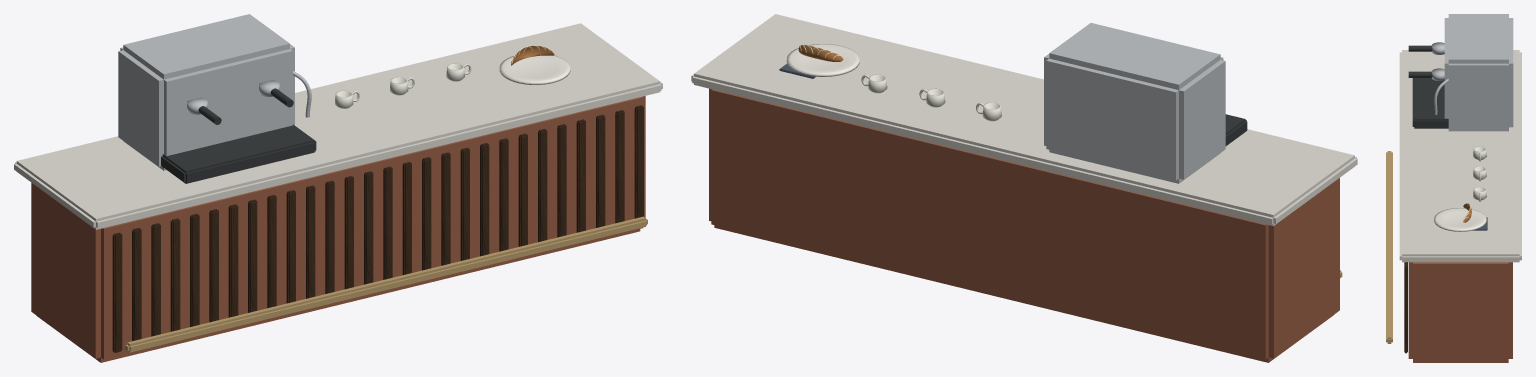
The model's file is coffee_bar.glb.
3 views of the same model, side by side, from view 1: azimuth 30°, elevation 25°; view 2: azimuth 150°, elevation 25°; view 3: azimuth 270°, elevation 25° (orthographic). The views are drawn at different scales.
Visible parts, largest first — view 1: coffee_bar_TERRUNE_terracotta, coffee_bar_Honed_solid_surface, coffee_bar_CC0_Smoked_walnut, coffee_bar_Brushed_stainless.003, coffee_bar_Satin_champagne, coffee_bar_Anodised_graphite.001, coffee_bar_V24_service_porcelain.004; view 2: coffee_bar_TERRUNE_terracotta, coffee_bar_Honed_solid_surface, coffee_bar_Brushed_stainless.003, coffee_bar_V24_service_porcelain.004; view 3: coffee_bar_Honed_solid_surface, coffee_bar_TERRUNE_terracotta, coffee_bar_Brushed_stainless.003, coffee_bar_Anodised_graphite.001, coffee_bar_Satin_champagne, coffee_bar_V24_service_porcelain.004, coffee_bar_CC0_Smoked_walnut, coffee_bar_Glazed_ceramic_0.007, coffee_bar_Glazed_ceramic_0.005, coffee_bar_Glazed_ceramic_0.006.
Part boxes in pixels (x1,y1,x2,y2): coffee_bar_TERRUNE_terracotta: (31, 96, 645, 362); coffee_bar_Honed_solid_surface: (14, 23, 662, 229); coffee_bar_CC0_Smoked_walnut: (112, 105, 643, 352); coffee_bar_Brushed_stainless.003: (118, 14, 311, 170); coffee_bar_Satin_champagne: (125, 216, 647, 352); coffee_bar_Anodised_graphite.001: (161, 88, 316, 183); coffee_bar_V24_service_porcelain.004: (499, 55, 570, 84); coffee_bar_TERRUNE_terracotta: (709, 88, 1339, 362); coffee_bar_Honed_solid_surface: (691, 14, 1357, 226); coffee_bar_Brushed_stainless.003: (1044, 23, 1225, 183); coffee_bar_V24_service_porcelain.004: (786, 44, 859, 76); coffee_bar_Honed_solid_surface: (1399, 50, 1521, 262); coffee_bar_TERRUNE_terracotta: (1408, 262, 1512, 362); coffee_bar_Brushed_stainless.003: (1431, 14, 1513, 131); coffee_bar_Anodised_graphite.001: (1408, 45, 1448, 128); coffee_bar_Satin_champagne: (1386, 151, 1392, 343); coffee_bar_V24_service_porcelain.004: (1434, 208, 1486, 231); coffee_bar_CC0_Smoked_walnut: (1404, 262, 1407, 353); coffee_bar_Glazed_ceramic_0.007: (1473, 187, 1486, 201); coffee_bar_Glazed_ceramic_0.005: (1473, 146, 1486, 161); coffee_bar_Glazed_ceramic_0.006: (1473, 166, 1486, 181).
Bounding box in the file's own units: 3.83 × 1.6 × 1.07.
13 materials, 1 textured.
